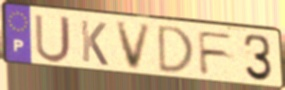3: (241, 33, 274, 84)
D: (157, 23, 196, 75)
F: (195, 30, 237, 77)
K: (78, 18, 110, 68)
U: (33, 12, 74, 65)
V: (114, 21, 155, 72)
